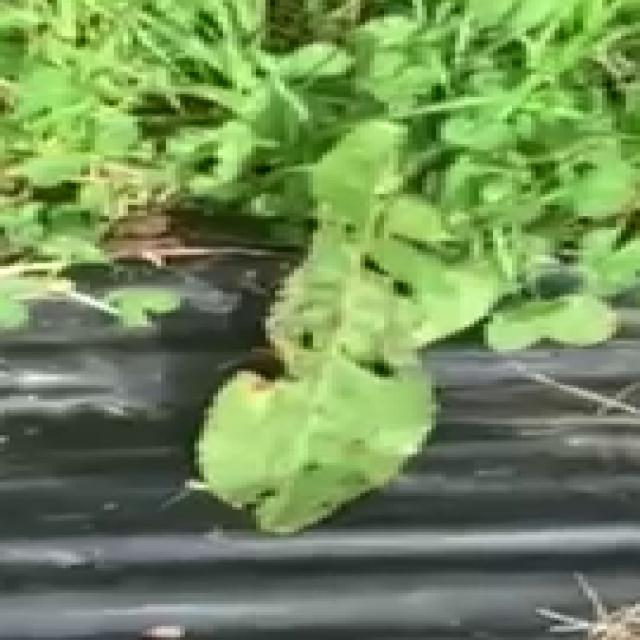organic waste: (166, 28, 597, 540)
